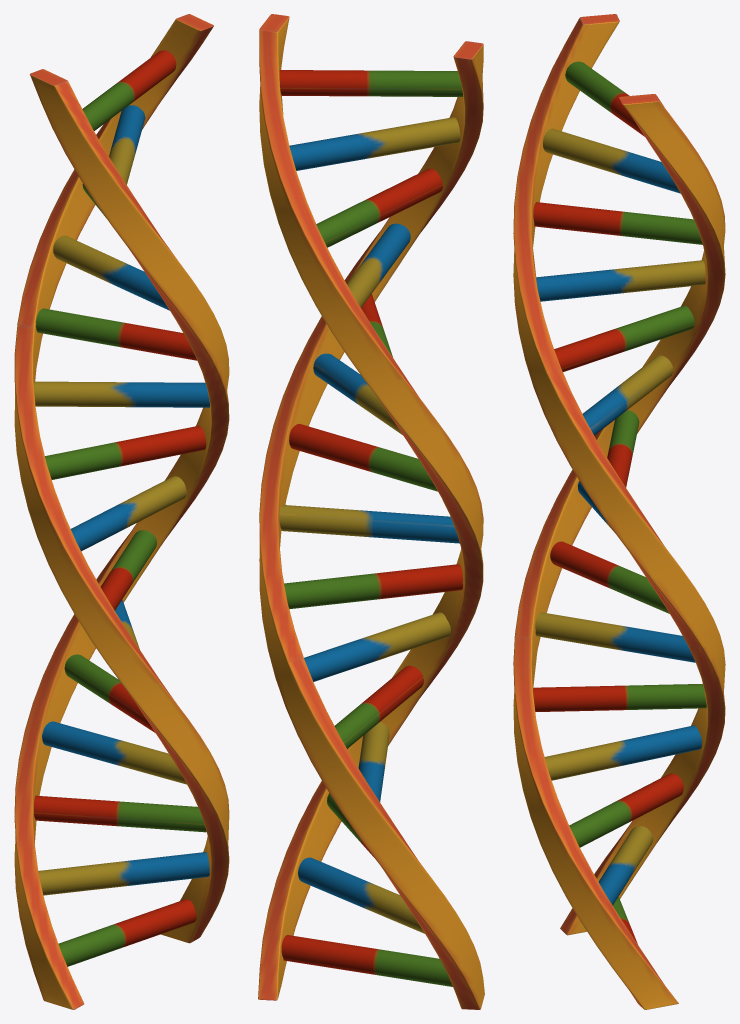
Rendered from DNA.glb.
3 views of the same model, side by side, from view 1: azimuth 30°, elevation 25°; view 2: azimuth 150°, elevation 25°; view 3: azimuth 270°, elevation 25° (orthographic). The views are drawn at different scales.
Visible parts, largest first — view 1: dna_double_helix.1; view 2: dna_double_helix.1; view 3: dna_double_helix.1.
Part boxes in pixels (x1,y1,x2,y2): dna_double_helix.1: (14, 14, 229, 1009); dna_double_helix.1: (258, 14, 484, 1009); dna_double_helix.1: (513, 14, 725, 1009).
Bounding box in the file's own units: 2.14 × 9.99 × 2.12.
Materials: 1 (1 with a texture image).
